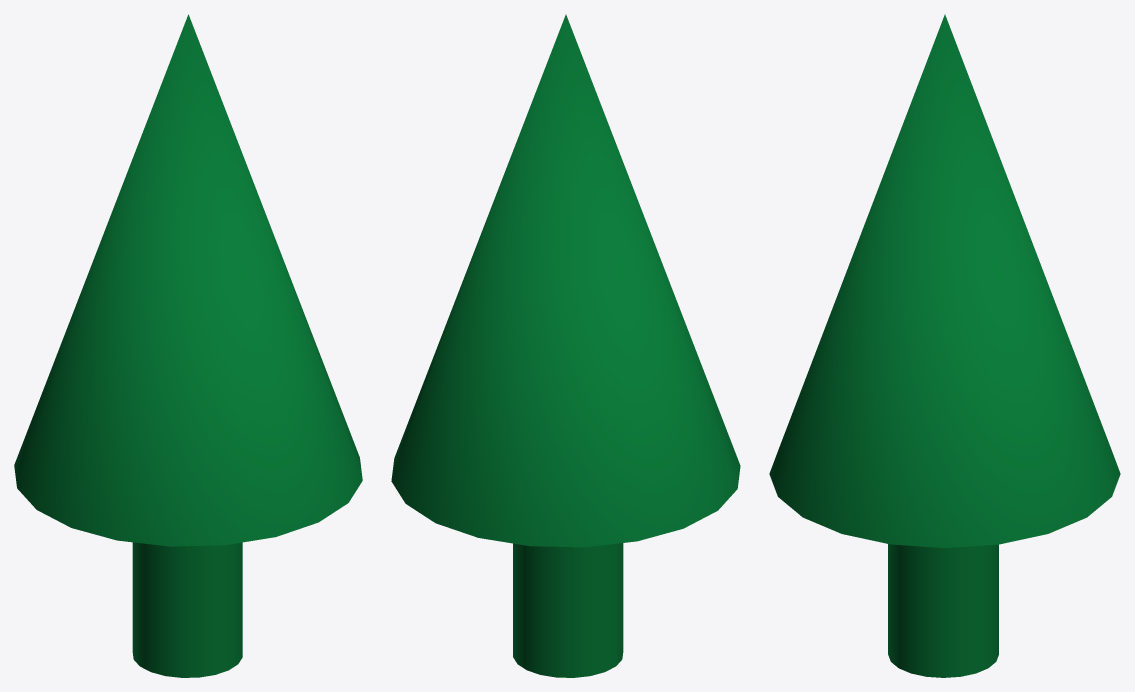
File: Pino_blocking.fbx
3 renders of one model, left to right at view 1: azimuth 30°, elevation 25°; view 2: azimuth 150°, elevation 25°; view 3: azimuth 270°, elevation 25°, orthographic.
Visible parts, largest first — view 1: pCone123, pCylinder132; view 2: pCone123, pCylinder132; view 3: pCone123, pCylinder132.
Part boxes in pixels (x1,y1,x2,y2): pCone123: (14, 14, 362, 546); pCylinder132: (132, 542, 242, 677); pCone123: (391, 14, 740, 547); pCylinder132: (513, 543, 623, 677); pCone123: (769, 14, 1120, 547); pCylinder132: (888, 544, 998, 677).
Bounding box in the file's own units: 2.84 × 5.73 × 2.84.
